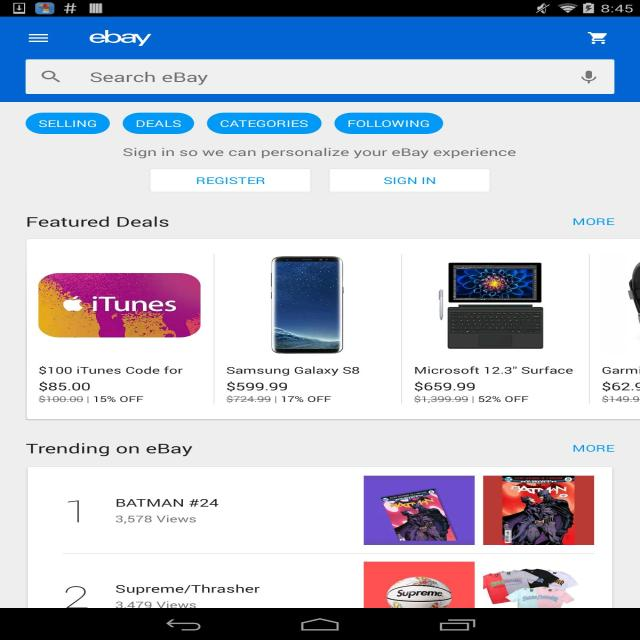button: (28, 468, 610, 552), (28, 551, 610, 612), (332, 168, 489, 194), (150, 170, 313, 194), (209, 112, 321, 136), (333, 113, 443, 133), (24, 112, 110, 134), (123, 112, 195, 135), (584, 28, 616, 47), (36, 68, 64, 86), (579, 67, 599, 88), (26, 32, 52, 45)
field: (27, 59, 612, 94)
heading: (21, 441, 195, 458), (25, 214, 172, 230), (85, 26, 157, 51)
image: (360, 473, 598, 548), (362, 560, 600, 609), (38, 273, 205, 336), (437, 260, 545, 349), (268, 255, 347, 355)
label: (87, 70, 210, 88)
link: (569, 216, 616, 228), (572, 444, 615, 454)
text: (411, 362, 575, 405), (37, 365, 186, 403), (222, 366, 362, 406), (120, 147, 518, 160), (111, 580, 265, 607), (104, 492, 231, 524), (601, 365, 640, 402), (61, 494, 91, 526), (58, 580, 89, 610)
